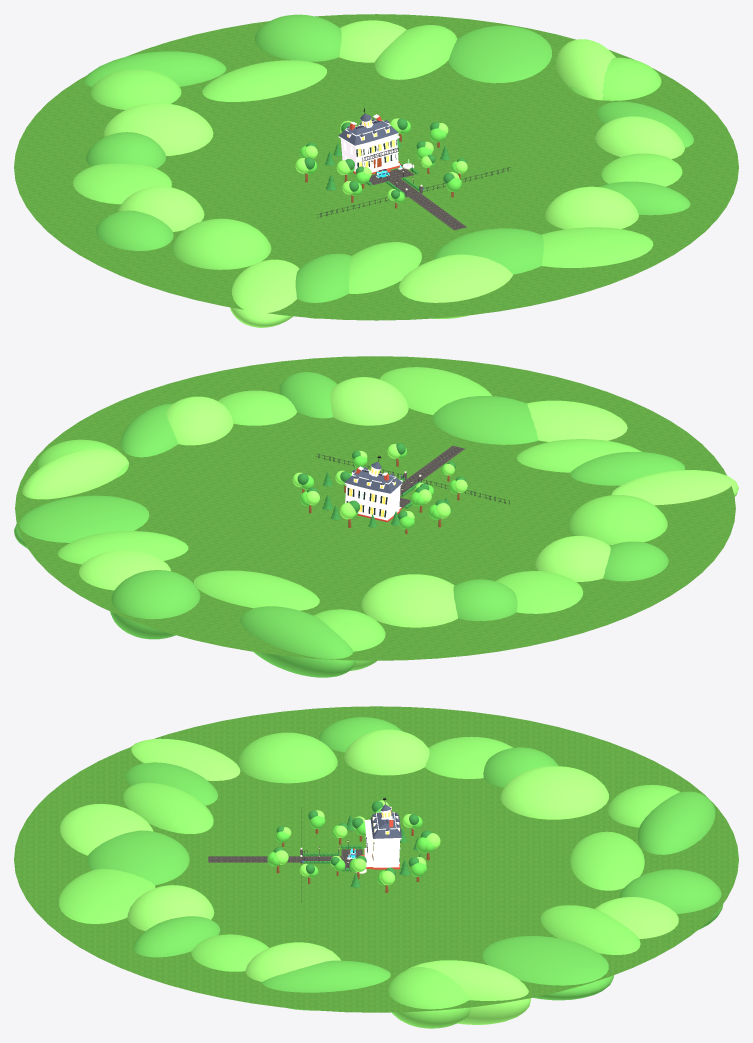
Rendered from auffahrt.glb.
3 views of the same model, one above another, from view 1: azimuth 30°, elevation 25°; view 2: azimuth 150°, elevation 25°; view 3: azimuth 270°, elevation 25° (orthographic).
Parts seen in each view (by area): view 1: Rasen.001, Huegel4.001, Huegel14.001, Huegel18.001, Huegel12.001, Huegel0.001, Huegel23.001, Huegel17.001, Huegel1.001, Huegel3.001, Huegel11.001, Huegel13.001 (+16 smaller); view 2: Rasen.001, Huegel25.001, Huegel4.001, Huegel23.001, Huegel1.001, Huegel13.001, Huegel18.001, Huegel5.001, Huegel0.001, Huegel14.001, Huegel11.001, Huegel12.001 (+17 smaller); view 3: Rasen.001, Huegel4.001, Huegel23.001, Huegel18.001, Huegel13.001, Huegel12.001, Huegel5.001, Huegel6.001, Huegel25.001, Huegel0.001, Huegel3.001, Huegel15.001 (+17 smaller).
Part boxes in pixels (box(x1,y1,x2,y2)): Rasen.001: box(14, 14, 738, 320); Huegel4.001: box(448, 25, 551, 83); Huegel14.001: box(399, 254, 512, 318); Huegel18.001: box(171, 218, 271, 269); Huegel12.001: box(541, 227, 653, 267); Huegel0.001: box(202, 60, 326, 101); Huegel23.001: box(103, 103, 213, 155); Huegel17.001: box(230, 259, 299, 327); Huegel1.001: box(255, 14, 341, 61); Huegel3.001: box(374, 25, 457, 79); Huegel11.001: box(544, 186, 638, 229); Huegel13.001: box(434, 228, 543, 274); Rasen.001: box(15, 356, 735, 660); Huegel25.001: box(240, 606, 355, 677); Huegel4.001: box(14, 495, 149, 548); Huegel23.001: box(361, 574, 457, 627); Huegel1.001: box(110, 570, 200, 639); Huegel13.001: box(432, 396, 538, 444); Huegel18.001: box(568, 495, 667, 545); Huegel5.001: box(22, 448, 128, 499); Huegel0.001: box(194, 570, 319, 610); Huegel14.001: box(527, 400, 627, 441); Huegel11.001: box(330, 377, 408, 425); Huegel12.001: box(379, 367, 491, 414); Rasen.001: box(14, 706, 738, 1012); Huegel4.001: box(483, 936, 613, 1000); Huegel23.001: box(500, 766, 608, 819); Huegel18.001: box(237, 732, 337, 783); Huegel13.001: box(87, 830, 189, 884); Huegel12.001: box(59, 868, 155, 923); Huegel5.001: box(408, 960, 531, 1024); Huegel6.001: box(387, 967, 470, 1028); Huegel25.001: box(637, 791, 715, 854); Huegel0.001: box(570, 831, 644, 890); Huegel3.001: box(540, 905, 640, 954); Huegel15.001: box(123, 782, 213, 833).
Bounding box in the file's own units: 280 × 41.07 × 280.
Materials: 54 (3 with a texture image).
